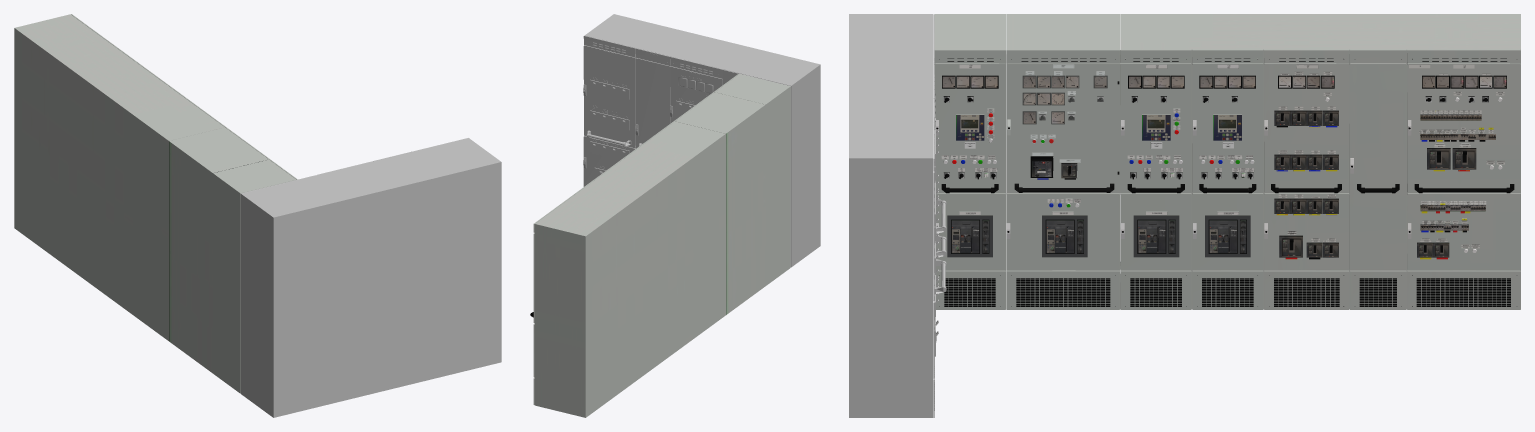
Rendered from Tableros_HMI.FBX.
3 renders of one model, left to right at view 1: azimuth 30°, elevation 25°; view 2: azimuth 150°, elevation 25°; view 3: azimuth 270°, elevation 25°, orthographic. The views are drawn at different scales.
Parts seen in each view (by area): view 1: MAPA1, MAPA3, MAPA2; view 2: MAPA3, MAPA1, MAPA2; view 3: MAPA3, MAPA2, MAPA1, MAPA4.
Boxes of the visible parts, bbox=[...] form: MAPA1: bbox=[240, 138, 501, 417]; MAPA3: bbox=[14, 14, 224, 340]; MAPA2: bbox=[169, 87, 297, 393]; MAPA3: bbox=[530, 121, 725, 417]; MAPA1: bbox=[583, 14, 820, 267]; MAPA2: bbox=[624, 74, 790, 314]; MAPA3: bbox=[1120, 14, 1520, 309]; MAPA2: bbox=[934, 14, 1263, 309]; MAPA1: bbox=[849, 14, 946, 417]; MAPA4: bbox=[1007, 63, 1120, 192].
Size of the model in its own units: 94.44 by 79.16 by 186.
